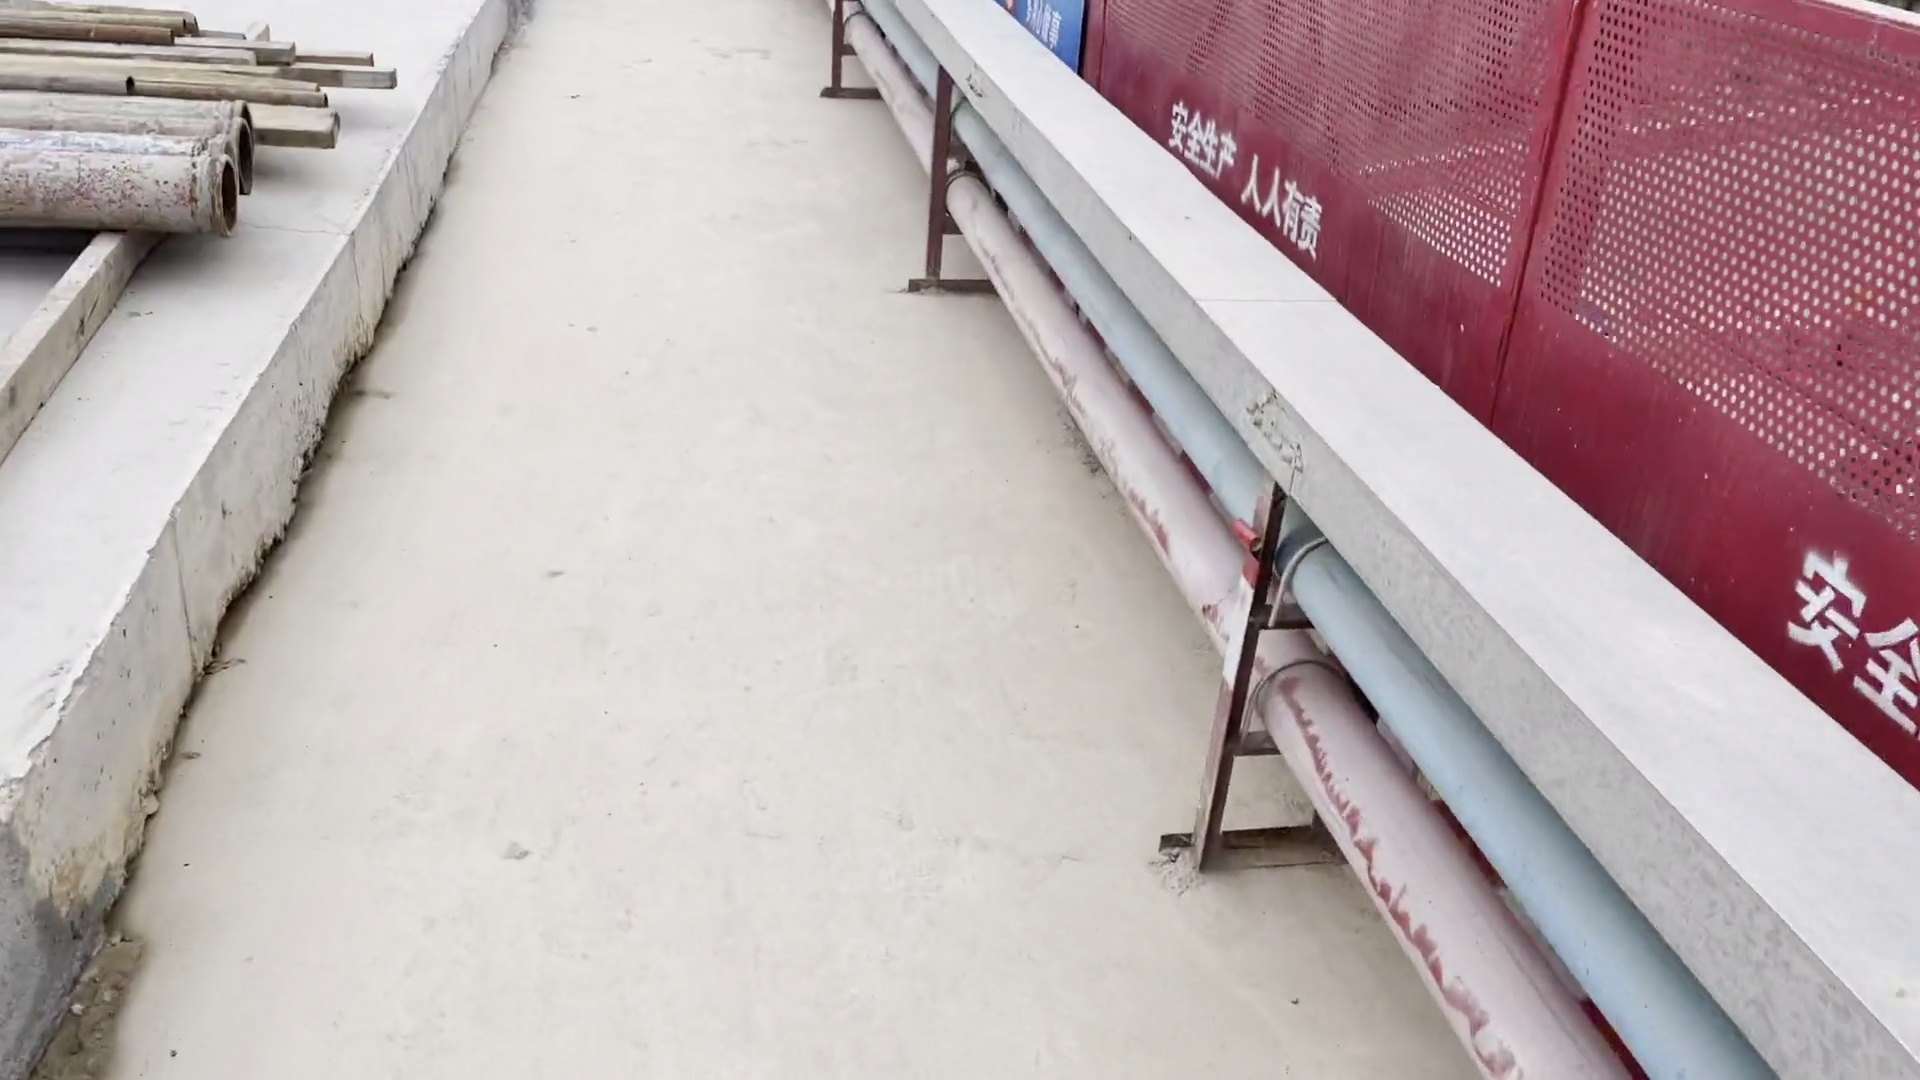fence: (1004, 1, 1920, 795)
slogan: (1006, 1, 1116, 76)
wood: (4, 1, 454, 153)
